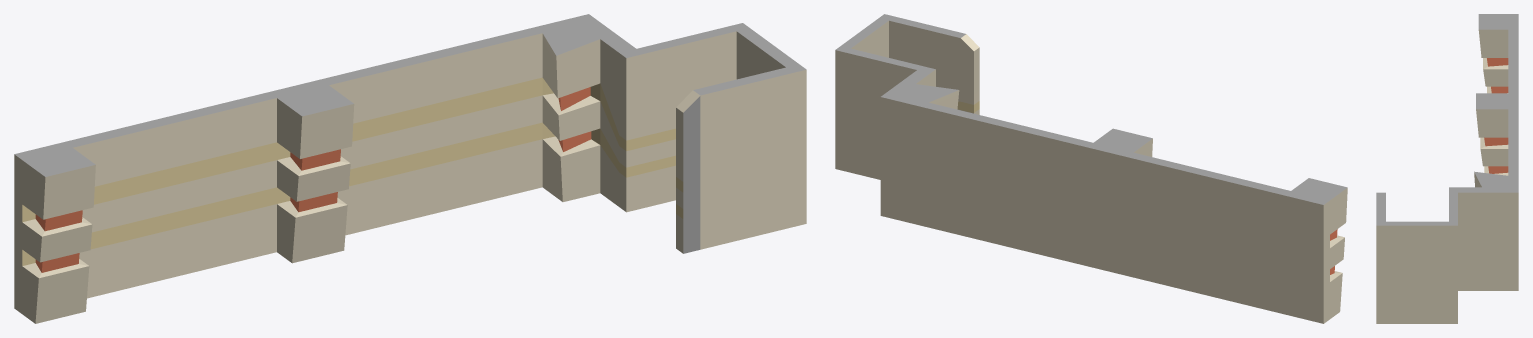
Rendered from LobbyWallsElevator.fbx.
3 renders of one model, left to right at view 1: azimuth 30°, elevation 25°; view 2: azimuth 150°, elevation 25°; view 3: azimuth 270°, elevation 25°, orthographic. The views are drawn at different scales.
Parts seen in each view (by area): view 1: BackWall; view 2: BackWall; view 3: BackWall.
Boxes of the visible parts, box(x1,y1,x2,y2) form: BackWall: box(14, 14, 806, 323); BackWall: box(835, 14, 1347, 323); BackWall: box(1376, 14, 1518, 323).
Bounding box in the file's own units: 343 × 74.26 × 97.32.
